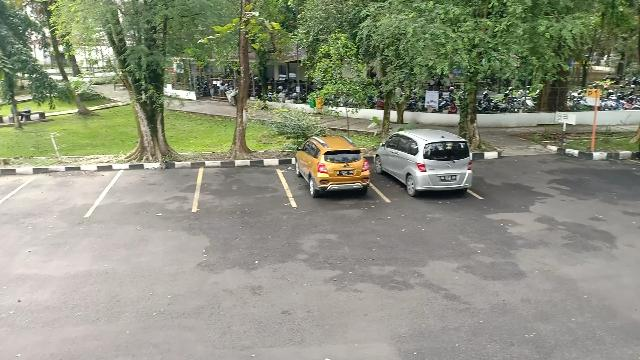empty: (4, 159, 110, 217), (107, 154, 197, 214), (197, 152, 286, 210)
occupied: (375, 140, 477, 202), (286, 143, 378, 205)
